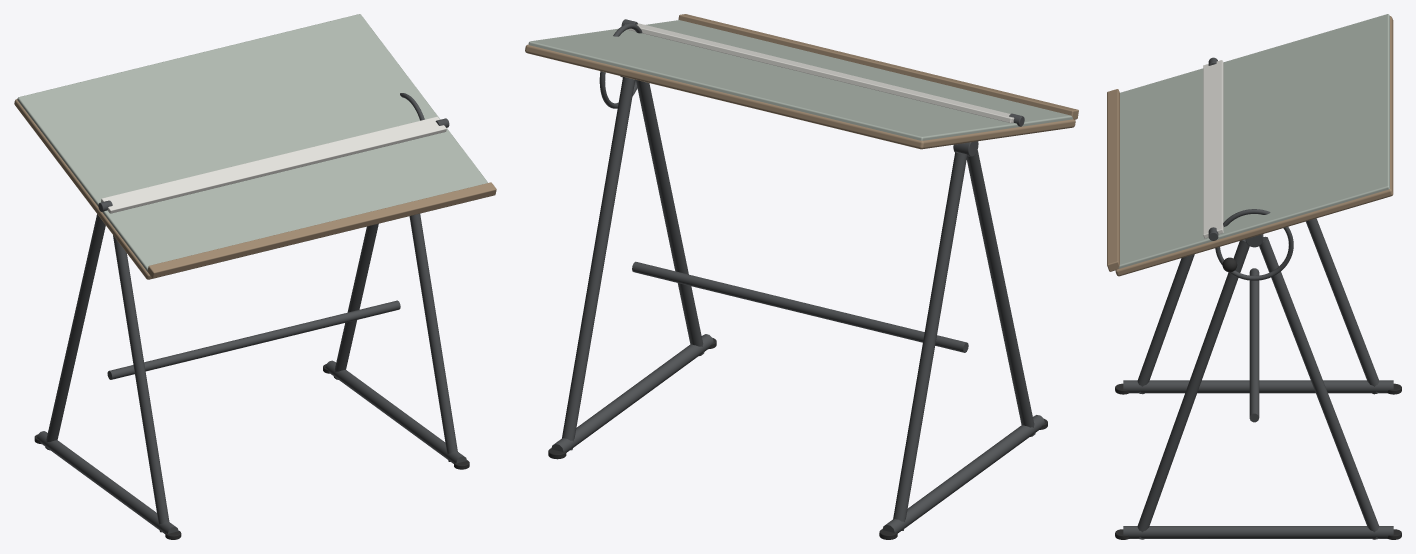
Rendered from drafting_table.glb.
3 views of the same model, side by side, from view 1: azimuth 30°, elevation 25°; view 2: azimuth 150°, elevation 25°; view 3: azimuth 270°, elevation 25° (orthographic). The views are drawn at different scales.
Visible parts, largest first — view 1: Board, Rule, Ledge, LegF-1, Stretcher, LegF1, LegB-1, Foot1, Foot-1, LegB1, BoardCore; view 2: Board, BoardCore, LegB-1, LegB1, Stretcher, LegF-1, Rule, LegF1, Ledge, Foot-1, Foot1; view 3: Board, LegB1, LegF1, Rule, Foot1, Foot-1, BoardCore, Ledge, LegB-1, LegF-1, Stretcher, Quadrant.
Part boxes in pixels (<box>): Board: <box>17,14,487,271</box>; Rule: <box>101,116,446,213</box>; Ledge: <box>147,182,496,278</box>; LegF-1: <box>113,235,169,532</box>; Stretcher: <box>107,300,400,379</box>; LegF1: <box>409,213,457,461</box>; LegB-1: <box>45,214,105,450</box>; Foot1: <box>325,360,466,463</box>; Foot-1: <box>37,431,178,533</box>; LegB1: <box>333,223,378,379</box>; BoardCore: <box>14,99,152,279</box>; Board: <box>528,20,1072,140</box>; BoardCore: <box>525,44,1075,149</box>; LegB-1: <box>893,151,967,530</box>; LegB1: <box>562,76,635,450</box>; Stretcher: <box>632,261,968,352</box>; LegF-1: <box>966,150,1035,436</box>; Rule: <box>627,23,1014,122</box>; LegF1: <box>636,80,704,355</box>; Ledge: <box>678,14,1078,119</box>; Foot-1: <box>882,415,1044,533</box>; Foot1: <box>551,334,713,452</box>; Board: <box>1118,14,1389,268</box>; LegB1: <box>1259,236,1379,539</box>; LegF1: <box>1137,239,1249,539</box>; Rule: <box>1203,60,1223,238</box>; Foot1: <box>1123,526,1393,538</box>; Foot-1: <box>1123,380,1393,393</box>; BoardCore: <box>1115,16,1393,276</box>; Ledge: <box>1107,89,1119,271</box>; LegB-1: <box>1306,218,1379,394</box>; LegF-1: <box>1137,254,1194,394</box>; Stretcher: <box>1249,268,1259,422</box>; Quadrant: <box>1215,209,1293,280</box>.
Size of the model in its own units: 1.01 by 0.9847 by 0.7197.
